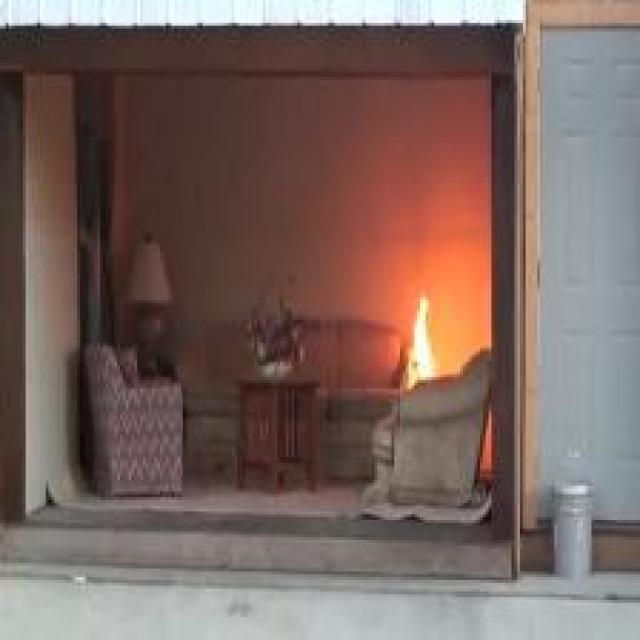Fire: (408, 293, 434, 387)
